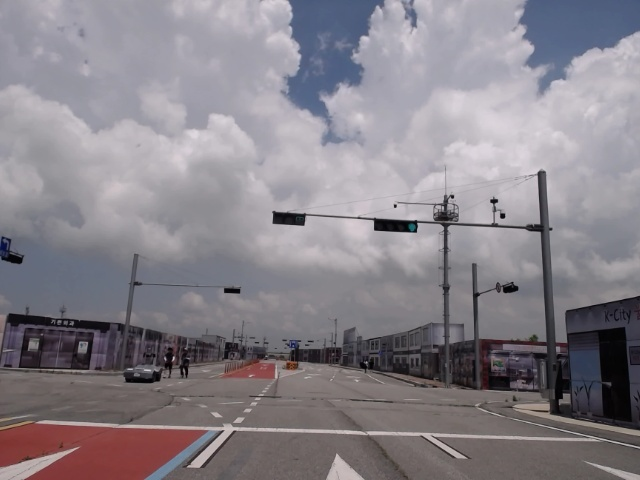straight_green_4: (375, 218, 418, 232)
